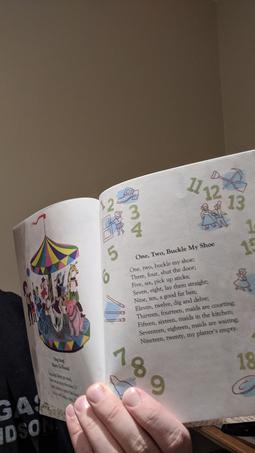text block: (119, 237, 246, 344)
